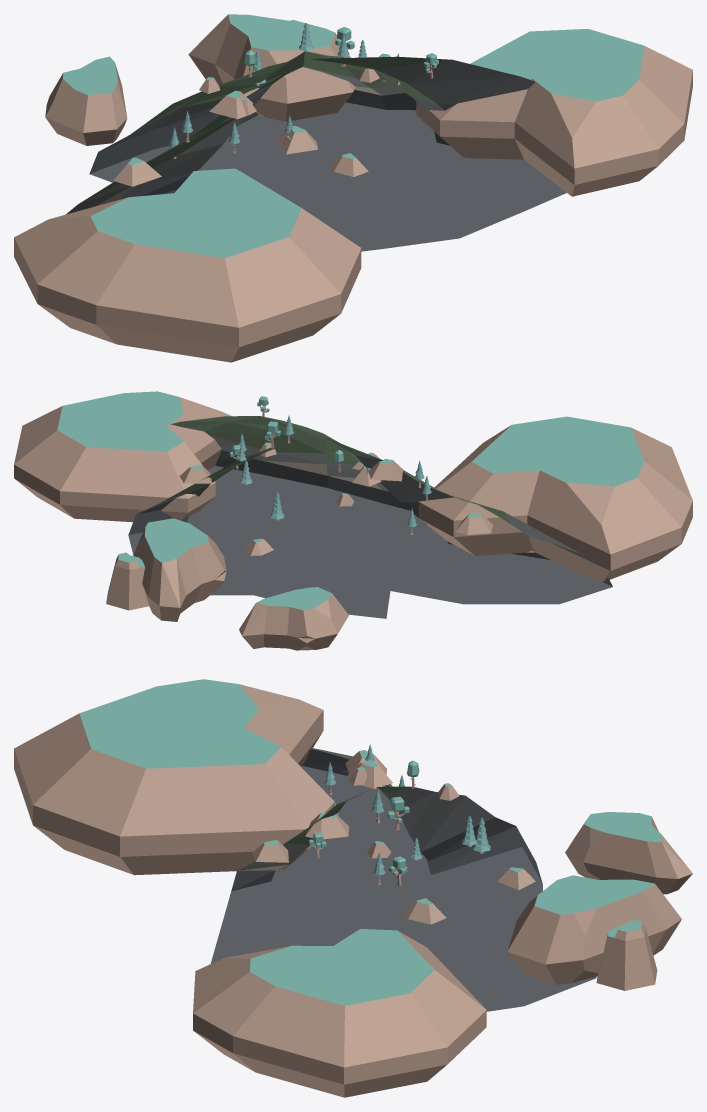
File: ring_of_thorns_lod0.glb
3 views of the same model, one above another, from view 1: azimuth 30°, elevation 25°; view 2: azimuth 150°, elevation 25°; view 3: azimuth 270°, elevation 25° (orthographic). The views are drawn at different scales.
Size of the model in its own units: 3.81 by 0.8049 by 2.99.
